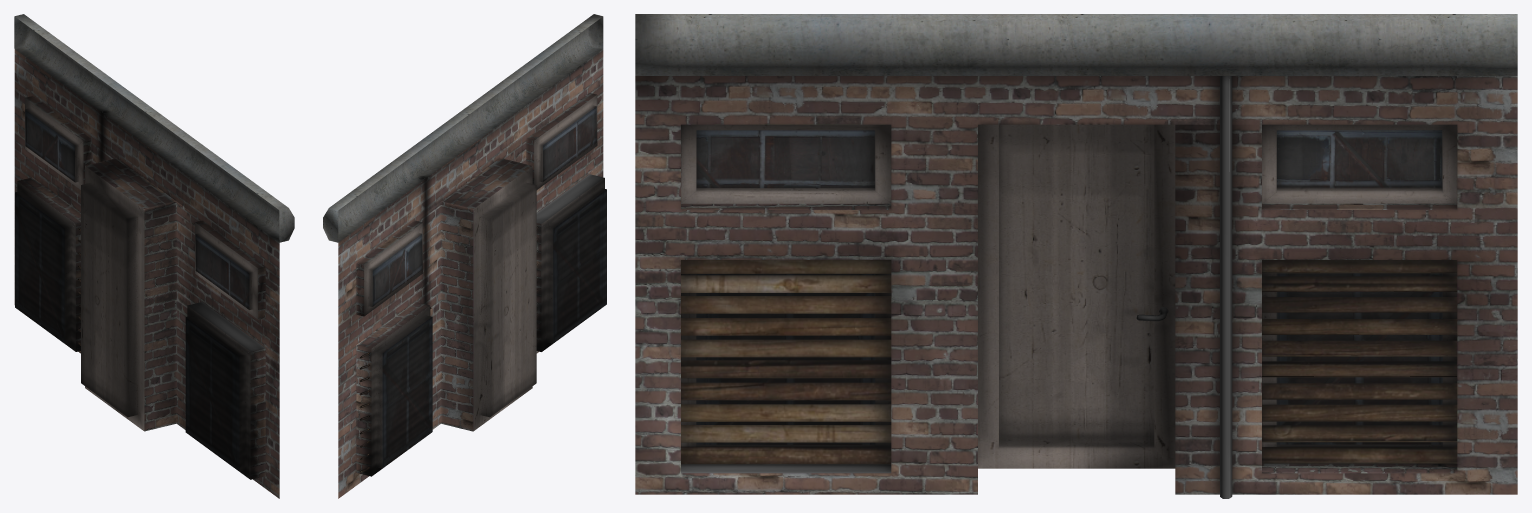
File: Build4.fbx
3 renders of one model, left to right at view 1: azimuth 30°, elevation 25°; view 2: azimuth 150°, elevation 25°; view 3: azimuth 270°, elevation 25°, orthographic. The views are drawn at different scales.
Parts seen in each view (by area): view 1: Cube_010; view 2: Cube_010; view 3: Cube_010.
Part boxes in pixels (left/top/right/bottom): Cube_010: left=14, top=14, right=294, bottom=498; Cube_010: left=323, top=14, right=606, bottom=498; Cube_010: left=635, top=14, right=1517, bottom=498.
Bounding box in the file's own units: 0.942 × 4.5 × 7.48.
